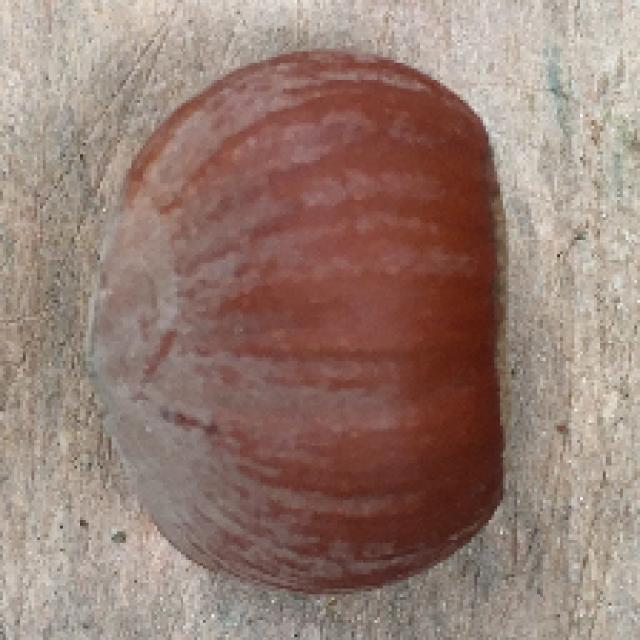QualityHazelnut: (80, 47, 509, 597)
